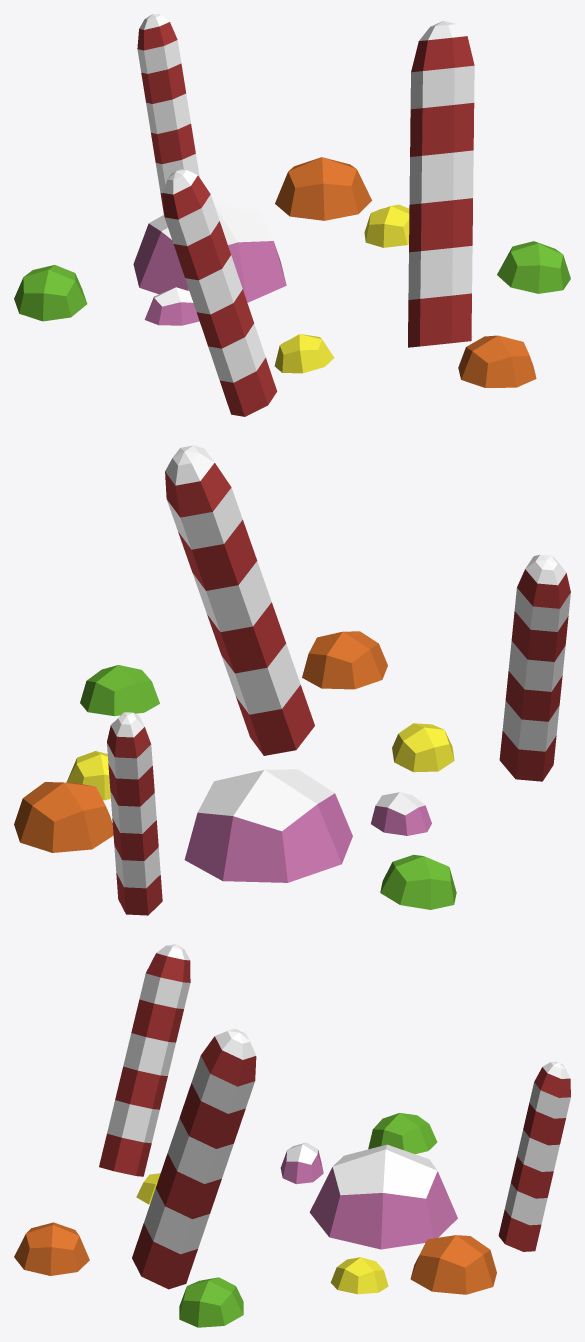
The model's file is Candy.fbx.
The picture shows the model from 3 angles, top to bottom: view 1: azimuth 30°, elevation 25°; view 2: azimuth 150°, elevation 25°; view 3: azimuth 270°, elevation 25°; orthographic projection. The views are drawn at different scales.
Parts seen in each view (by area): view 1: Candy; view 2: Candy; view 3: Candy.
Boxes of the visible parts, bbox=[...] form: Candy: bbox=[14, 14, 570, 416]; Candy: bbox=[14, 445, 570, 915]; Candy: bbox=[14, 944, 570, 1327].
Bounding box in the file's own units: 0.7797 × 0.4949 × 0.9172.
